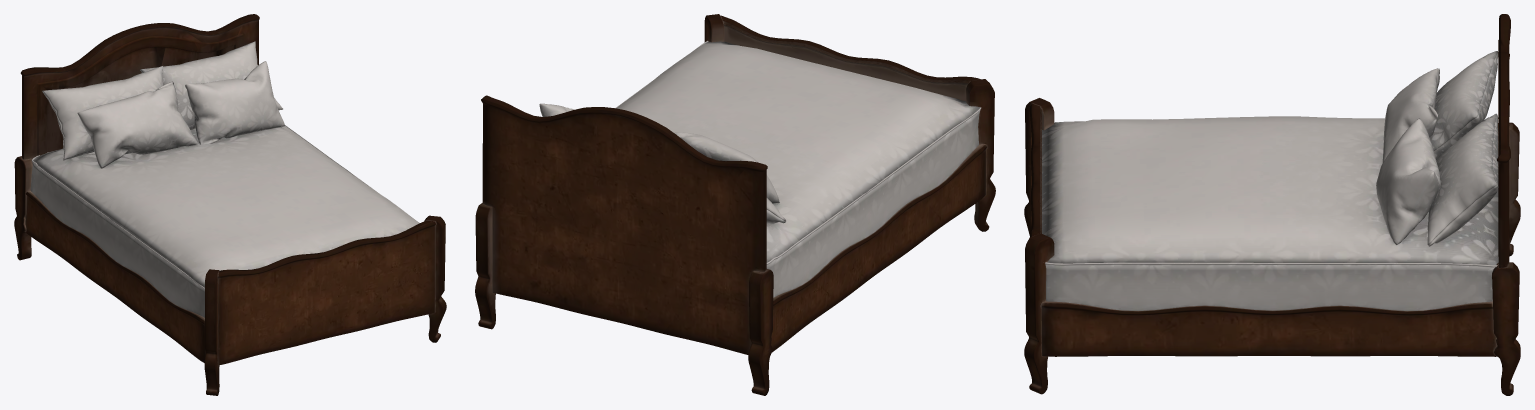
File: bed_victorian_abdullah_mohammed.glb
3 views of the same model, side by side, from view 1: azimuth 30°, elevation 25°; view 2: azimuth 150°, elevation 25°; view 3: azimuth 270°, elevation 25° (orthographic). The views are drawn at different scales.
Visible parts, largest first — view 1: victorian_bed_wood_bed_wood_material_0, victorian_bed_mattres_bed_mattres_material_0, pollows_bed_pillow_material_0; view 2: victorian_bed_wood_bed_wood_material_0, victorian_bed_mattres_bed_mattres_material_0, pollows_bed_pillow_material_0; view 3: victorian_bed_mattres_bed_mattres_material_0, victorian_bed_wood_bed_wood_material_0, pollows_bed_pillow_material_0.
Boxes of the visible parts, <box> form: victorian_bed_wood_bed_wood_material_0: <box>14,14,446,395</box>; victorian_bed_mattres_bed_mattres_material_0: <box>30,125,419,317</box>; pollows_bed_pillow_material_0: <box>42,41,284,168</box>; victorian_bed_wood_bed_wood_material_0: <box>475,14,995,395</box>; victorian_bed_mattres_bed_mattres_material_0: <box>615,40,981,297</box>; pollows_bed_pillow_material_0: <box>539,103,785,223</box>; victorian_bed_mattres_bed_mattres_material_0: <box>1042,116,1498,311</box>; victorian_bed_wood_bed_wood_material_0: <box>1024,14,1520,395</box>; pollows_bed_pillow_material_0: <box>1376,51,1498,246</box>.
Bounding box in the file's own units: 2.13 × 1.73 × 3.01.
3 materials, 3 textured.
